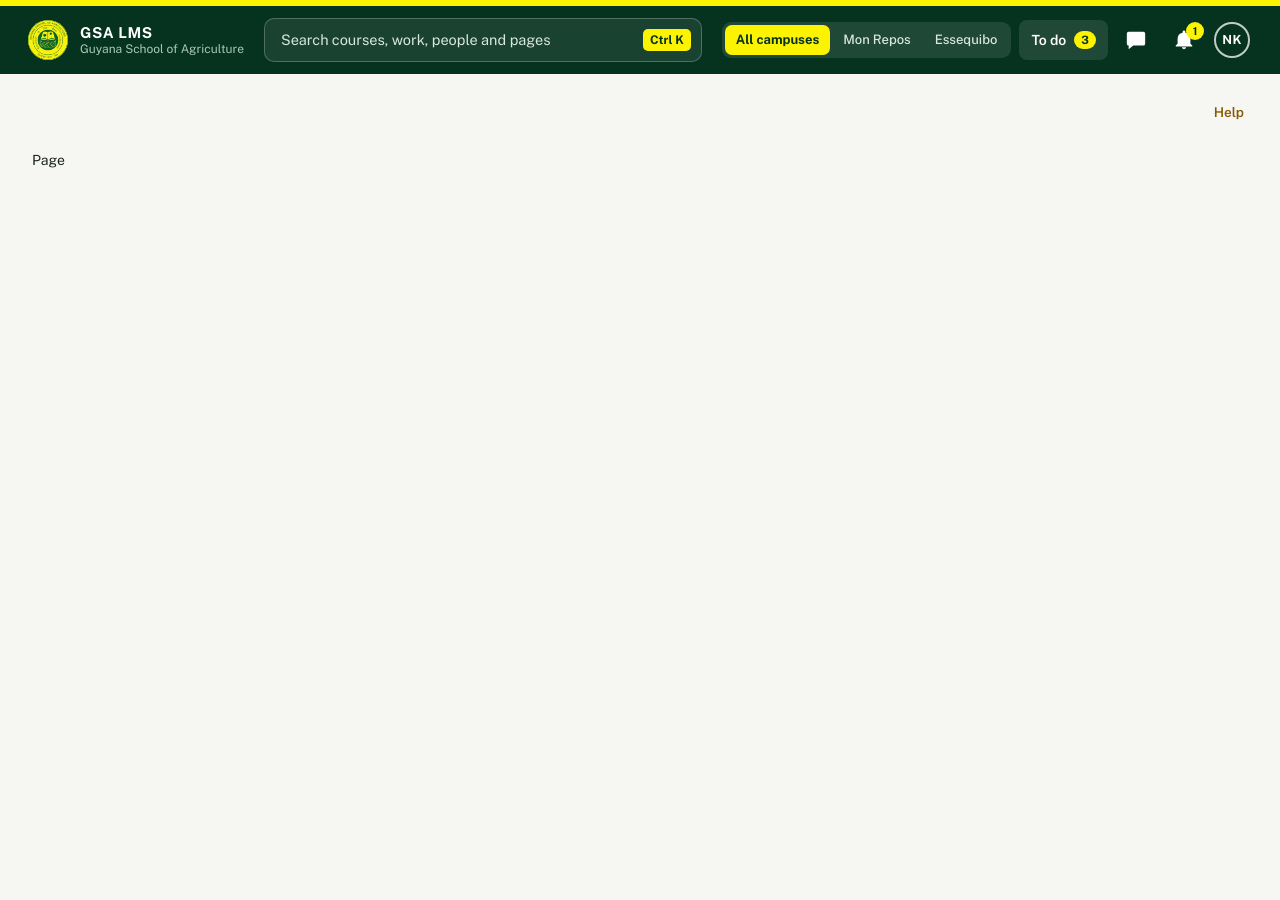
it: on a phone › closes what was open when the page changes
Click the button with aria-label "Signed in as Natasha Khan": {"x": 1232, "y": 40} [1212,20,1252,60]
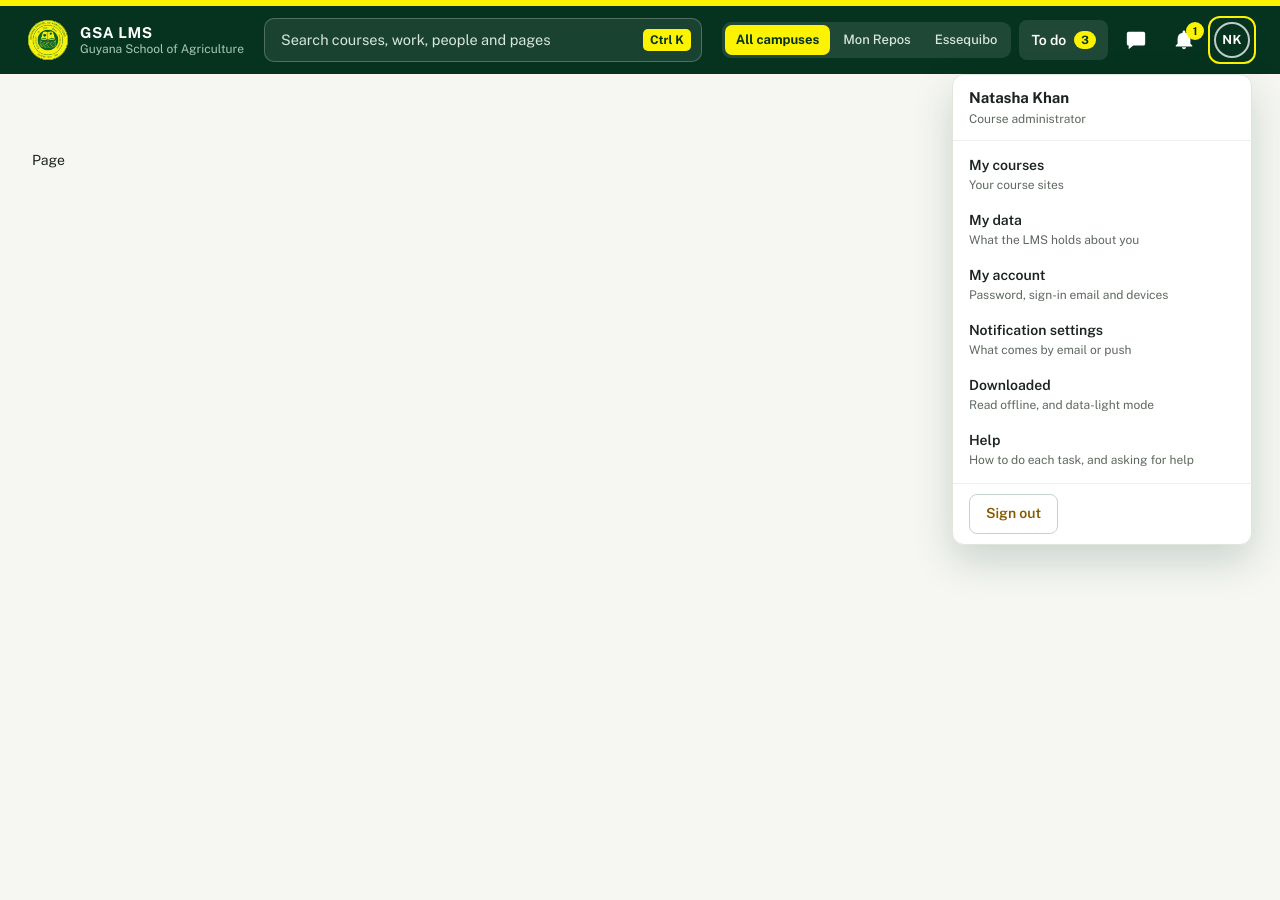
Expected: the dialog named "Your account" is shown, [952,74,1252,544]
